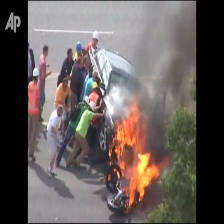fire_h: (108, 95, 160, 205)
fire_l: (112, 167, 120, 178), (107, 174, 111, 181)
